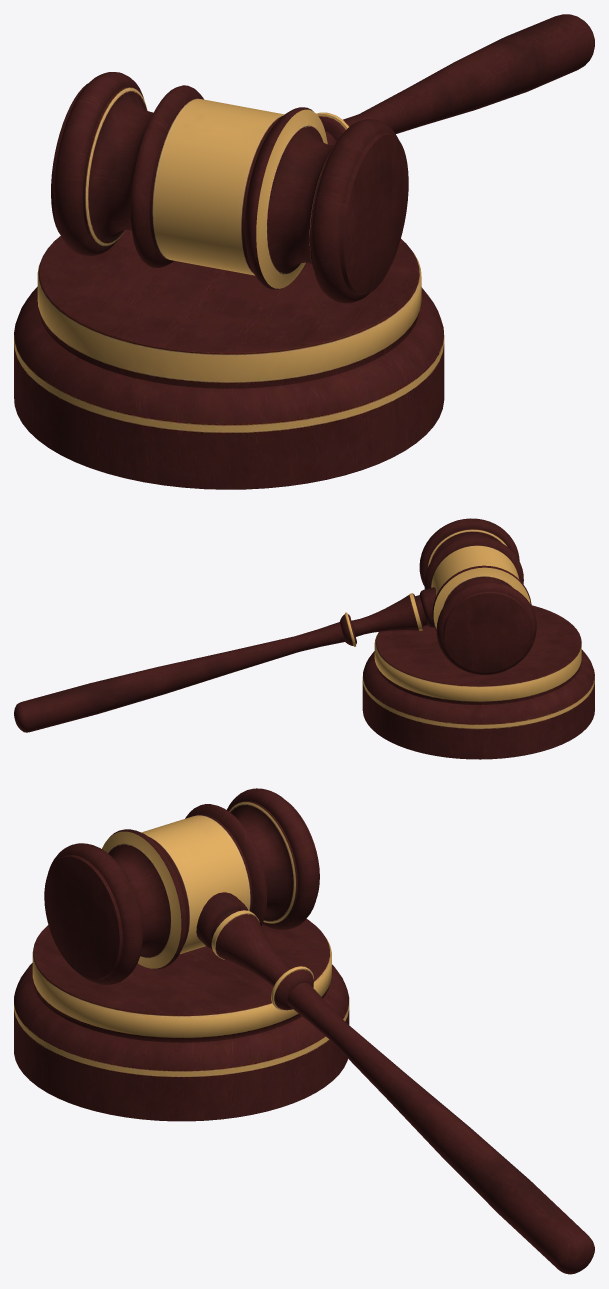
File: gavel.glb
3 renders of one model, top to bottom at view 1: azimuth 30°, elevation 25°; view 2: azimuth 150°, elevation 25°; view 3: azimuth 270°, elevation 25°, orthographic. The views are drawn at different scales.
Parts seen in each view (by area): view 1: Wood_02 - Default_0, JudgeHammer_low_03 - Default_0; view 2: JudgeHammer_low_03 - Default_0, Wood_02 - Default_0; view 3: JudgeHammer_low_03 - Default_0, Wood_02 - Default_0.
Part boxes in pixels (<box>): Wood_02 - Default_0: <box>14,230,444,489</box>; JudgeHammer_low_03 - Default_0: <box>51,14,594,303</box>; JudgeHammer_low_03 - Default_0: <box>14,518,536,732</box>; Wood_02 - Default_0: <box>362,605,594,759</box>; JudgeHammer_low_03 - Default_0: <box>44,788,594,1274</box>; Wood_02 - Default_0: <box>14,919,349,1121</box>.
Bounding box in the file's own units: 1.84 × 0.6525 × 1.49.
Materials: 2 (2 with a texture image).
